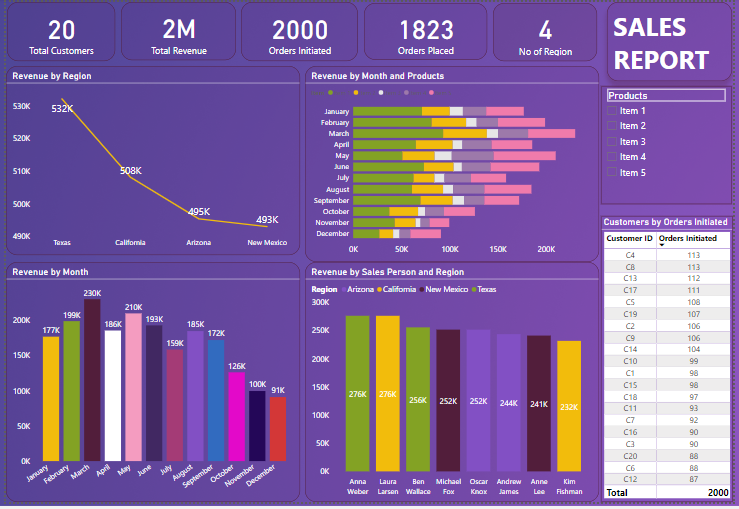

This screenshot's page, from the dashboard's own definition file:
{"tool":"powerbi","page":{"name":"Page 1","canvas":[1600,1100],"ordinal":0},"visuals":[{"type":"card","fields":{"Values":["DAX.Total Customers"]},"box":[2.2,0,237.6,129.8],"z":0},{"type":"lineChart","title":"Revenue by Region","fields":{"Y":["DAX.Total_Revenue"],"Category":["Sales Data.Region"]},"box":[0,140.8,646.8,415.8],"z":1000},{"type":"card","fields":{"Values":["DAX.Orders_Initiated"]},"box":[517,0,257.4,129.8],"z":2000},{"type":"card","fields":{"Values":["DAX.Total_Revenue"]},"box":[253,0,253,127.6],"z":3000},{"type":"card","fields":{"Values":["DAX.No of Region"]},"box":[1071.4,2.2,228.8,127.6],"z":4000},{"type":"card","fields":{"Values":["DAX.Orders_Placed"]},"box":[787.6,2.2,270.6,125.4],"z":5000},{"type":"textbox","box":[1322.2,0,275,173.8],"z":6000},{"type":"tableEx","title":"Customers by Orders Initiated","fields":{"Values":["Sales Data.Customer ID","DAX.Orders_Initiated"]},"box":[1309,470.8,290.4,629.2],"z":7000},{"type":"clusteredColumnChart","title":"Revenue by Month","fields":{"Y":["DAX.Total_Revenue"],"Category":["Sales Data.Date.Variation.Date Hierarchy.Month"]},"box":[0,572,646.8,528],"z":8000},{"type":"barChart","title":"Revenue by Month and Products","fields":{"Y":["DAX.Total_Revenue"],"Series":["Sales Data.Item"],"Category":["Sales Data.Date.Variation.Date Hierarchy.Month"]},"box":[657.8,140.8,646.8,431.2],"z":9000},{"type":"columnChart","title":"Revenue by Sales Person and Region","fields":{"Category":["Sales Data.Sales Person"],"Series":["Sales Data.Region"],"Y":["DAX.Total_Revenue"]},"box":[658,572,647,528],"z":10000},{"type":"slicer","fields":{"Values":["Sales Data.Item"]},"box":[1309,184.8,288.2,259.6],"z":11000}]}

Visuals, with their boxes in screenshot pixels (x1, y1, x2, y2), scaled from the page's 1600x1100 canvas onto the 739x509 screenshot:
card - DAX.Total Customers: <box>1,0,111,60</box>
"Revenue by Region" lineChart: <box>0,65,299,258</box>
card - DAX.Orders_Initiated: <box>239,0,358,60</box>
card - DAX.Total_Revenue: <box>117,0,234,59</box>
card - DAX.No of Region: <box>495,1,601,60</box>
card - DAX.Orders_Placed: <box>364,1,489,59</box>
textbox: <box>611,0,738,80</box>
"Customers by Orders Initiated" tableEx: <box>605,218,738,508</box>
"Revenue by Month" clusteredColumnChart: <box>0,265,299,508</box>
"Revenue by Month and Products" barChart: <box>304,65,603,265</box>
"Revenue by Sales Person and Region" columnChart: <box>304,265,603,508</box>
slicer - Sales Data.Item: <box>605,86,738,206</box>
